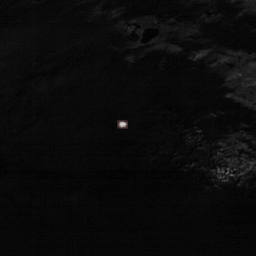Target: (116, 119, 128, 130)
